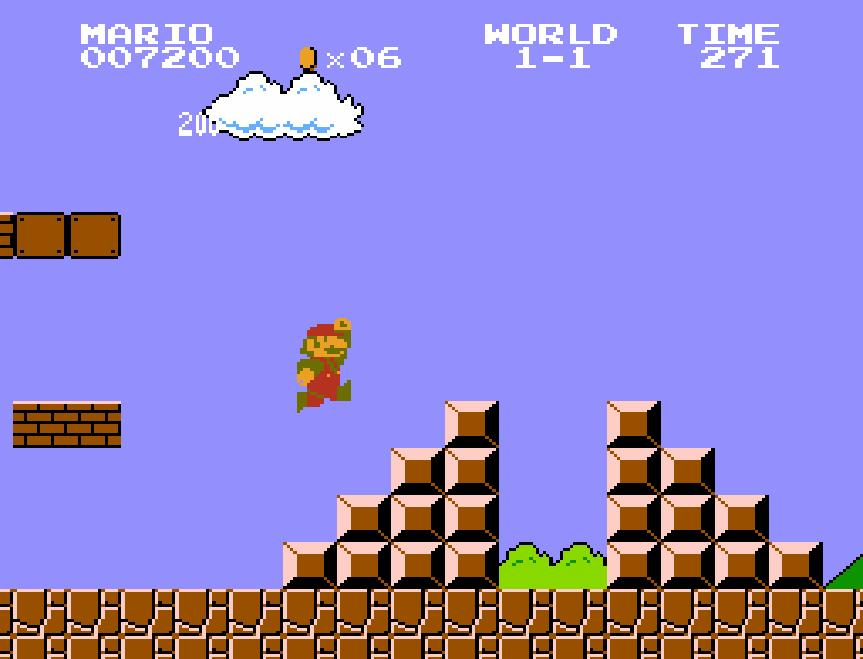big_mario: (294, 316, 352, 414)
